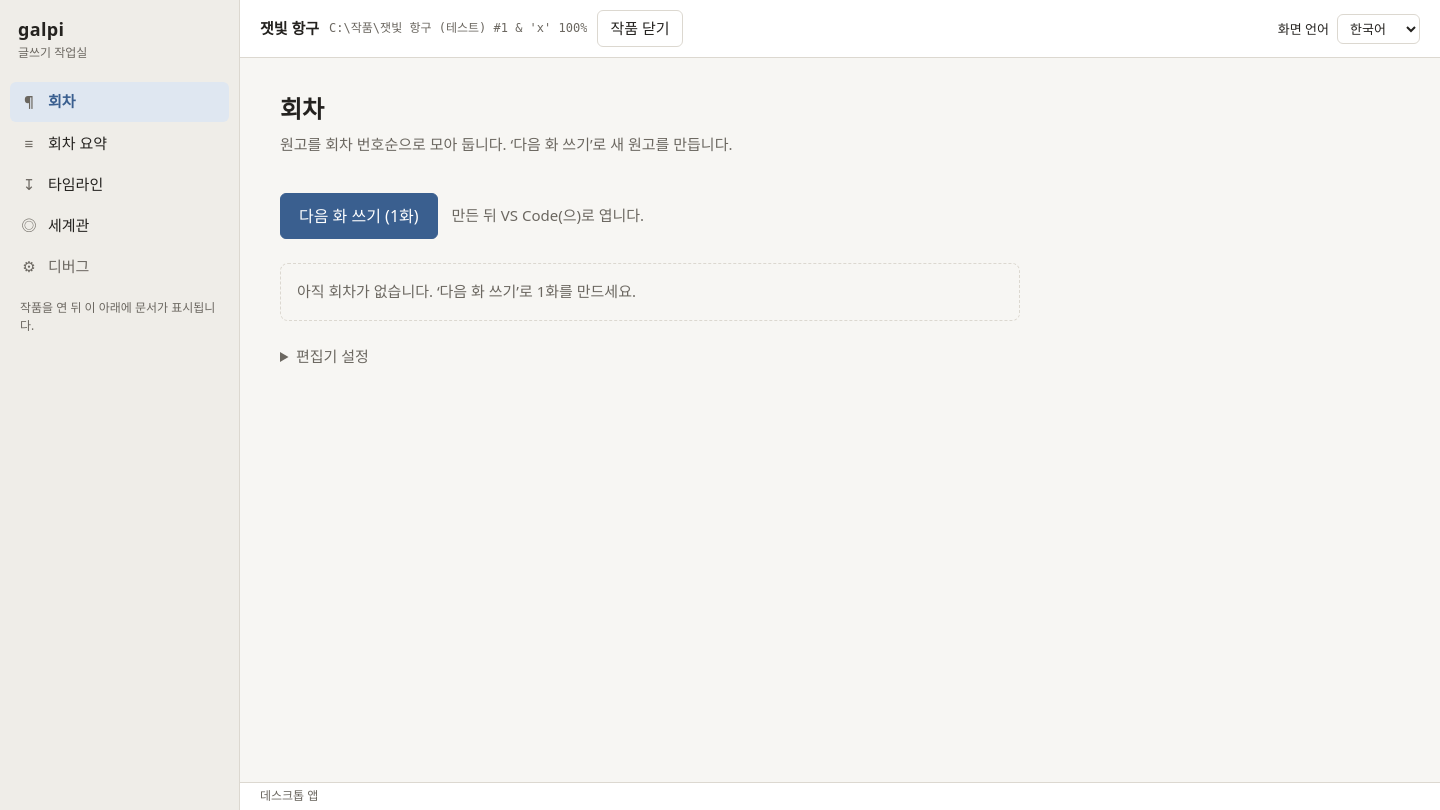
Test: episodes › renaming keeps the episode id and path
expect the text "잿빛 항구" is shown: met, box [260,17,319,40]
Click the button "다음 화 쓰기 (1화)" at (359, 216), box [280,193,438,240]
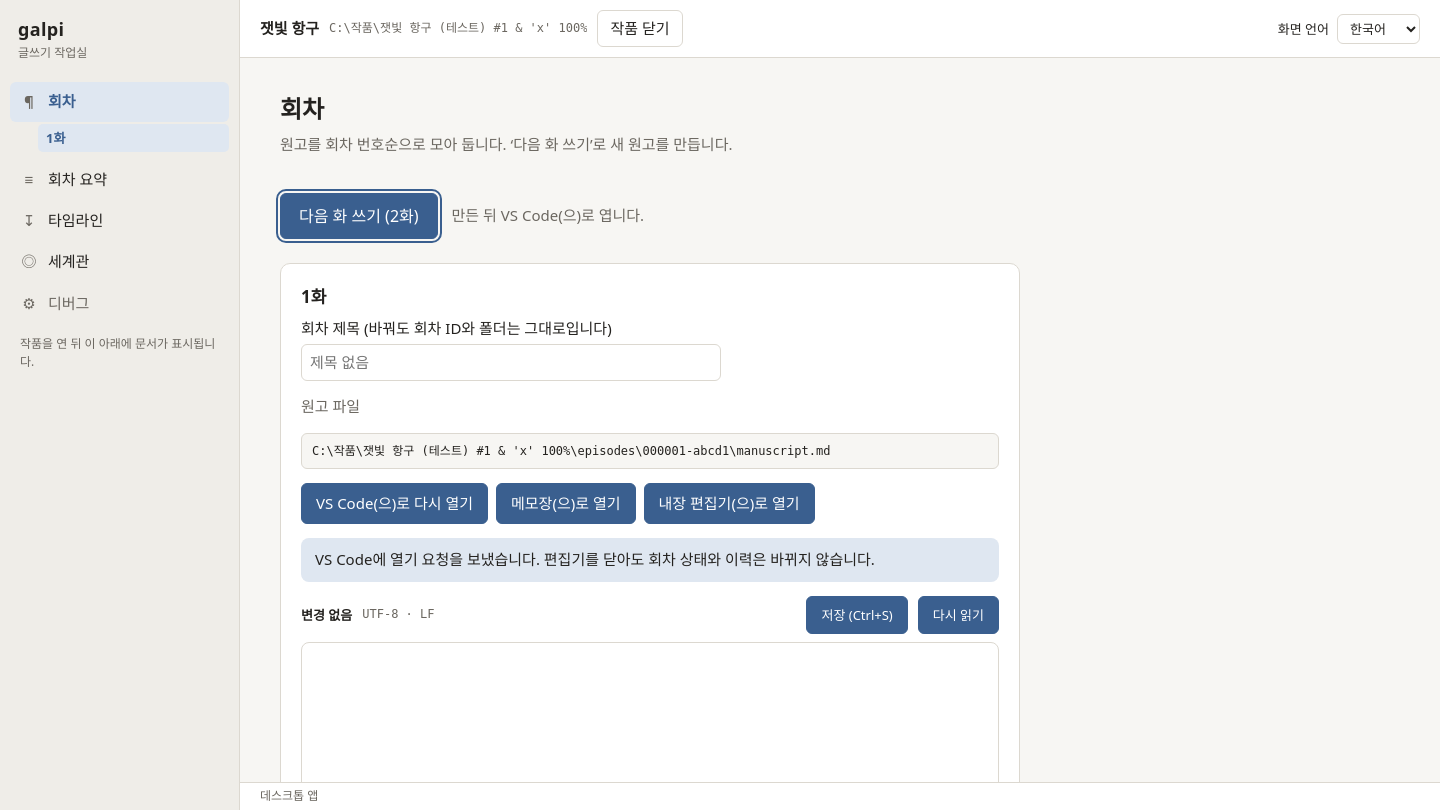
Type "각성" into the field labelled "회차 제목 (바꿔도 회차 ID와 폴더는 그대로입니다)" at (511, 363), box [301,344,721,381]
Then press Enter
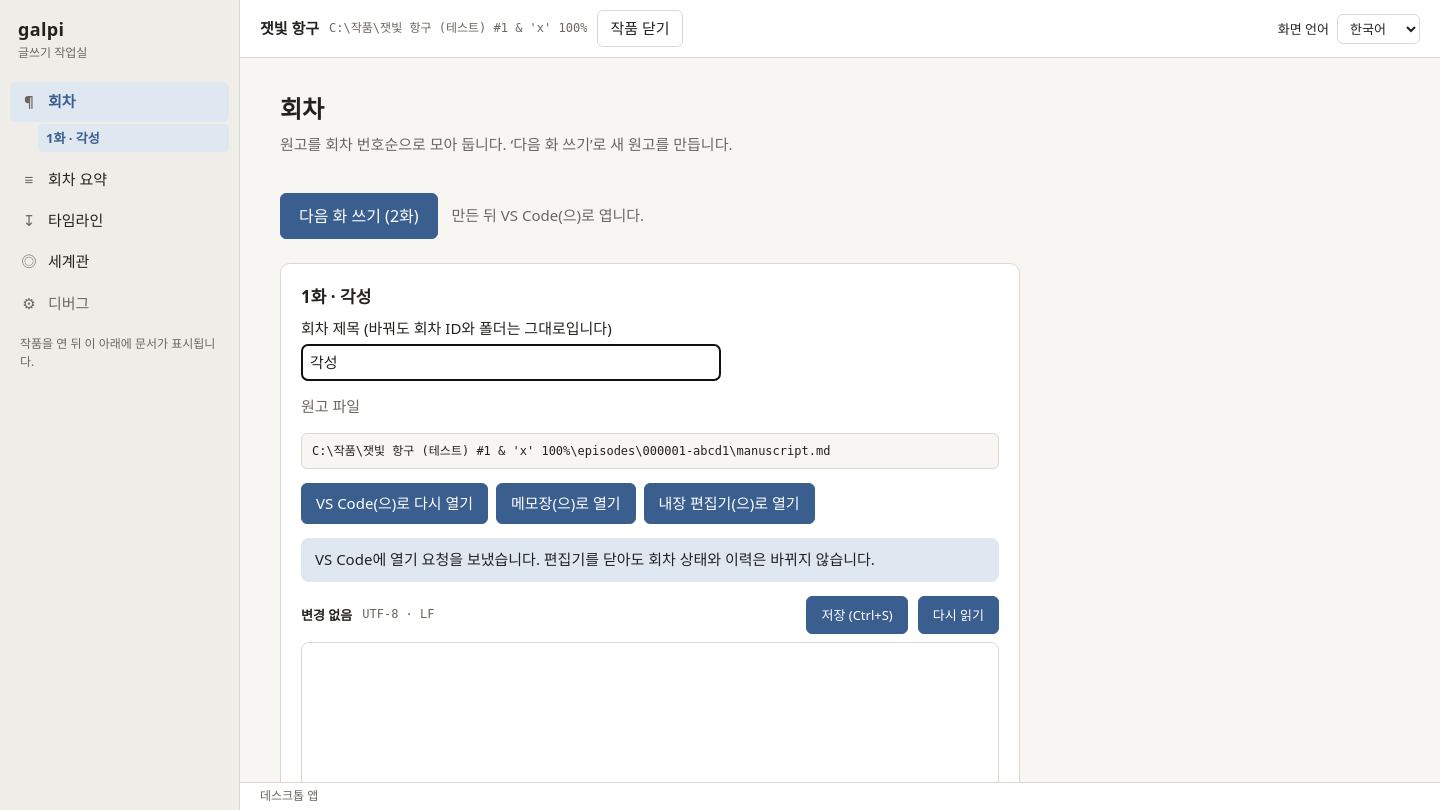
expect the button "1화 · 각성" is shown: met, box [38,124,229,152]
